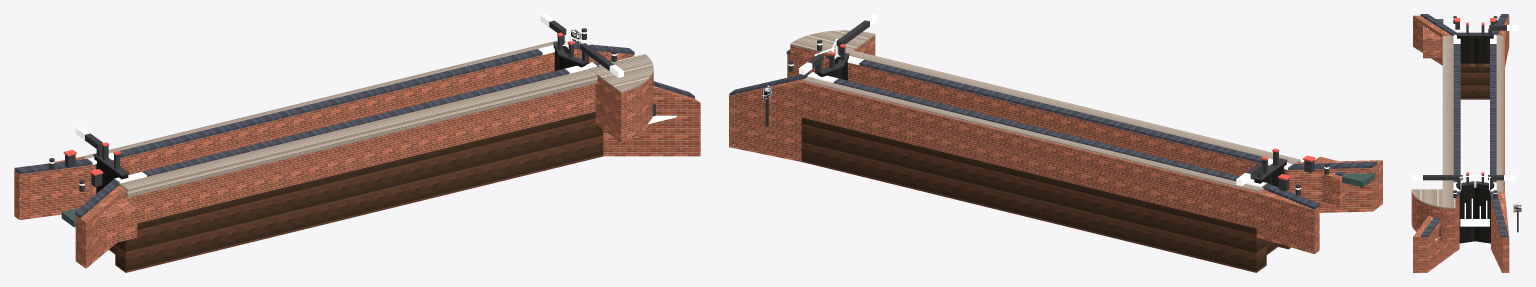
The model's file is lock-40.glb.
The picture shows the model from 3 angles, left to right: view 1: azimuth 30°, elevation 25°; view 2: azimuth 150°, elevation 25°; view 3: azimuth 270°, elevation 25°; orthographic projection. The views are drawn at different scales.
Parts seen in each view (by area): view 1: Chamber, ChamberWet, Edge, Coping.001, TopGateCap, Coping, TopGate; view 2: Chamber, ChamberWet, Coping.001, Edge, TopGateCap, Coping, TopGate; view 3: Chamber, Edge, Coping.001, TopGate, ChamberWet, TopGateCap, Coping, Leak, PaddleTop.
Part boxes in pixels (<box>): Chamber: <box>14,41,700,268</box>; ChamberWet: <box>109,111,603,272</box>; Edge: <box>82,40,653,197</box>; Coping.001: <box>14,42,694,218</box>; TopGateCap: <box>49,20,656,191</box>; Coping: <box>49,14,623,185</box>; TopGate: <box>94,45,589,193</box>; Chamber: <box>729,35,1382,254</box>; ChamberWet: <box>801,117,1290,272</box>; Coping.001: <box>729,49,1377,209</box>; Edge: <box>790,30,1300,192</box>; TopGateCap: <box>765,20,1329,195</box>; Coping: <box>788,14,1329,189</box>; TopGate: <box>815,56,1286,187</box>; Chamber: <box>1411,15,1509,272</box>; Edge: <box>1411,35,1503,208</box>; Coping.001: <box>1420,14,1508,236</box>; TopGate: <box>1456,36,1494,243</box>; ChamberWet: <box>1460,63,1489,99</box>; TopGateCap: <box>1423,16,1518,236</box>; Coping: <box>1411,18,1519,193</box>; Leak: <box>1427,28,1489,240</box>; PaddleTop: <box>1454,18,1495,174</box>.
Bounding box in the file's own units: 33.71 × 5.59 × 7.8.
Materials: 11 (8 with a texture image).
